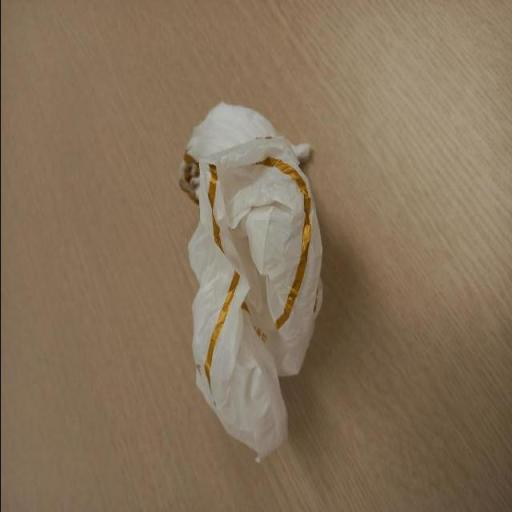plastic-bag: (174, 103, 329, 466)
